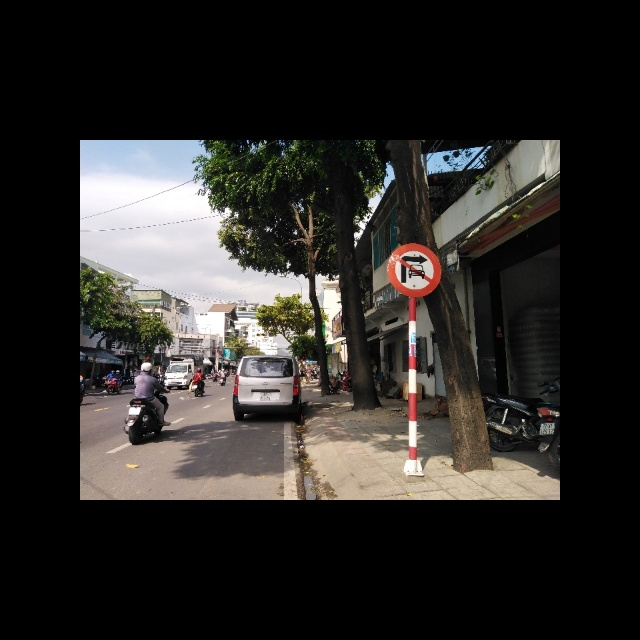Cấm xe ô tô rẽ trái: (386, 242, 443, 299)
